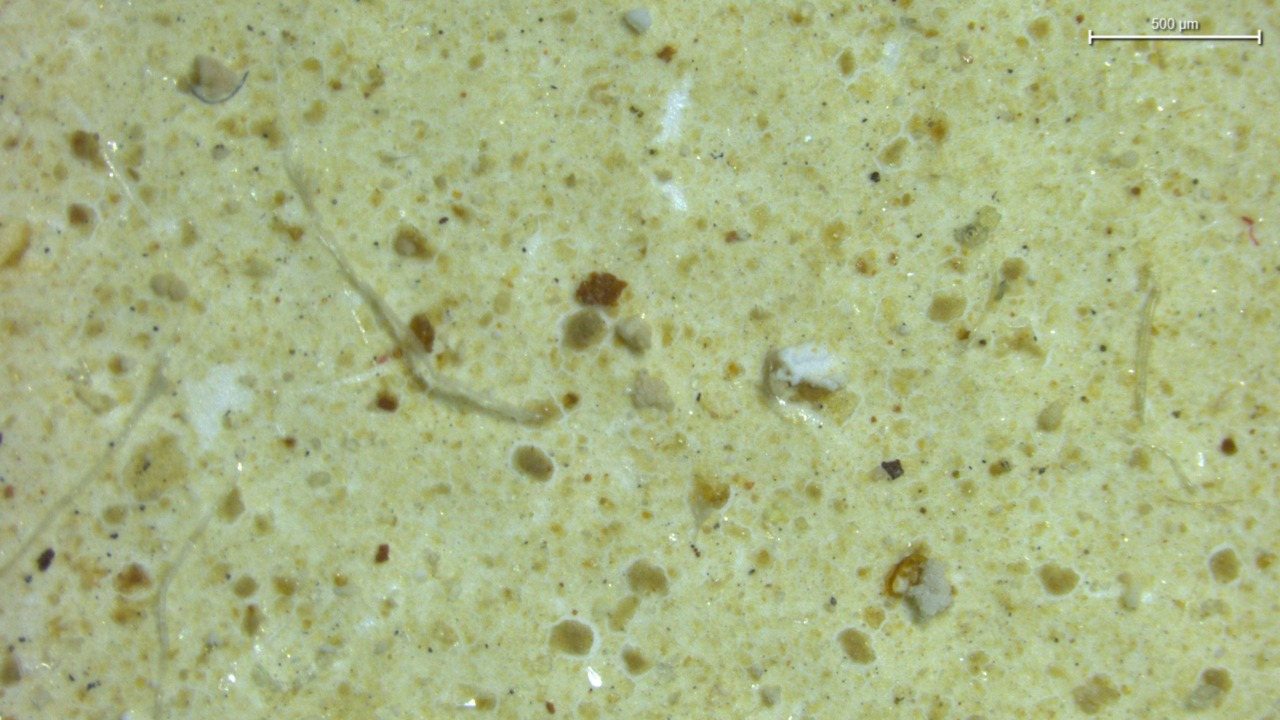microplastic_fragment: (882, 551, 951, 618), (774, 343, 844, 391), (627, 373, 674, 411), (615, 317, 652, 354), (625, 8, 651, 32)
